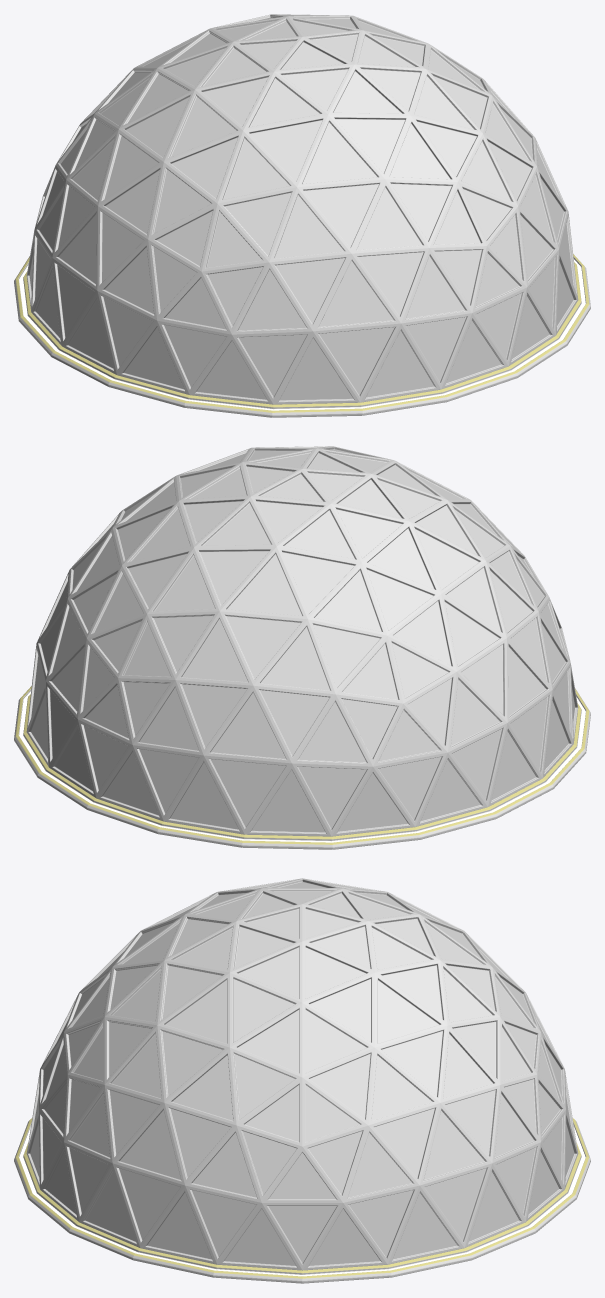
The model's file is sci-_fi__future_building_2_simple_dome.glb.
3 renders of one model, top to bottom at view 1: azimuth 30°, elevation 25°; view 2: azimuth 150°, elevation 25°; view 3: azimuth 270°, elevation 25°, orthographic.
Visible parts, largest first — view 1: Icosphere.001_2; view 2: Icosphere.001_2; view 3: Icosphere.001_2.
Part boxes in pixels (bbox=[...]): Icosphere.001_2: bbox=[14, 14, 590, 417]; Icosphere.001_2: bbox=[14, 446, 590, 849]; Icosphere.001_2: bbox=[14, 878, 590, 1283].
Bounding box in the file's own units: 4.13 × 2.04 × 4.13.
